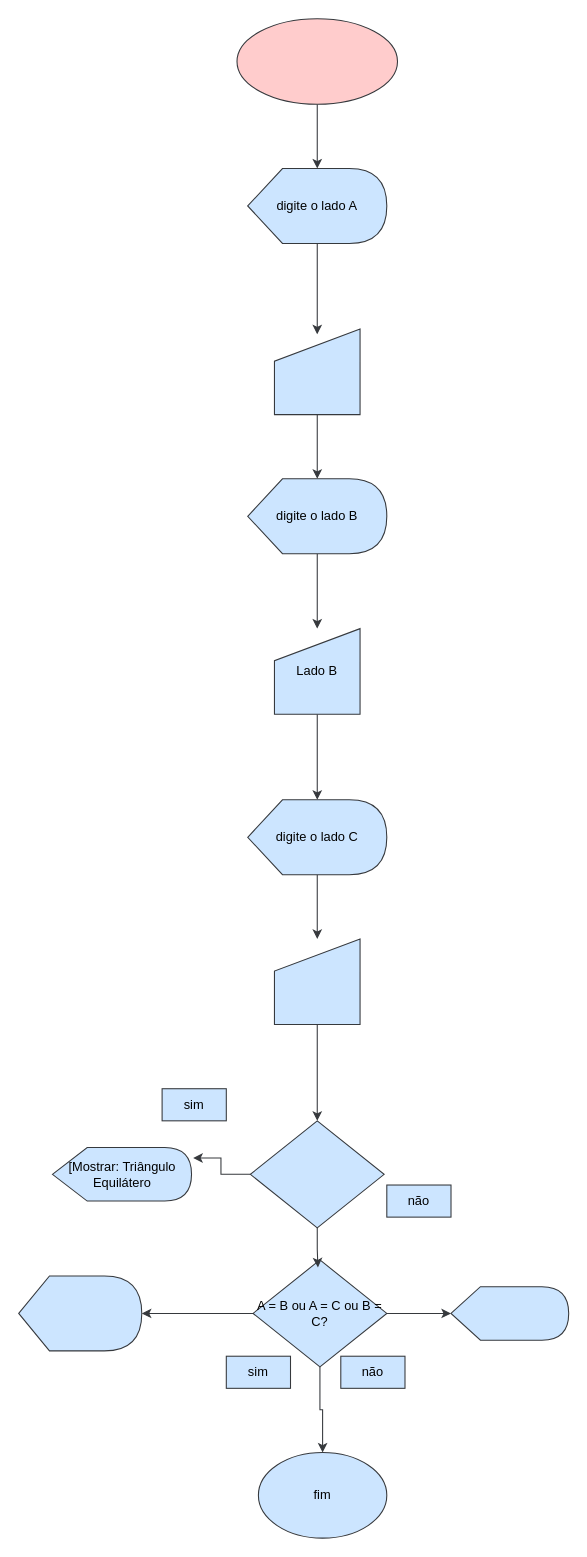
The diagram is 587 pixels wide and 1557 high, and some of its shapes have lost their labels. Each missing label, with the centre of its shape:
A = B e B = C?: the point at 316,1174
Início: the point at 317,61
Lado A: the point at 316,371
Lado C: the point at 316,981
Mostrar: Triângulo Escaleno: the point at 509,1313
Mostrar: Triângulo Isósceles: the point at 80,1313
